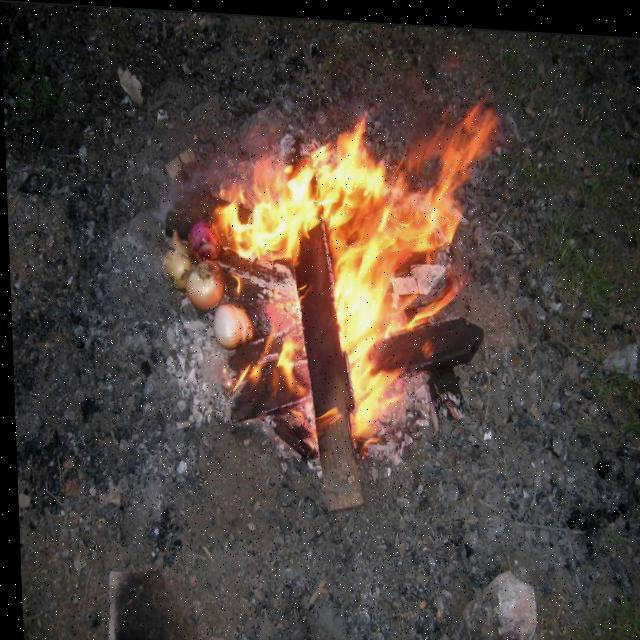Fire: (186, 75, 518, 434)
